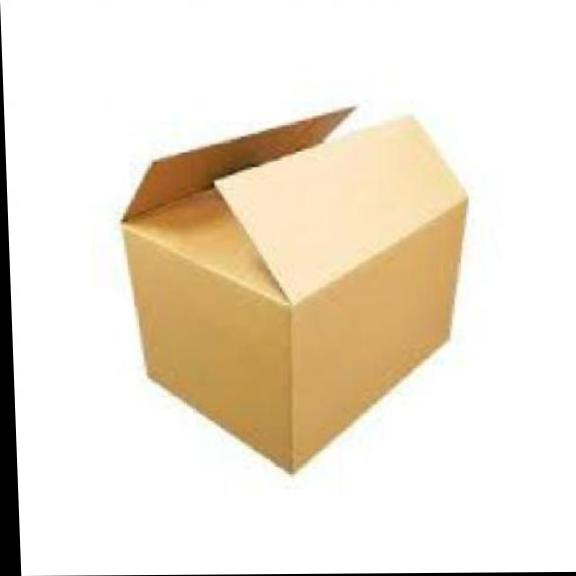Kertas: (122, 109, 466, 470)
